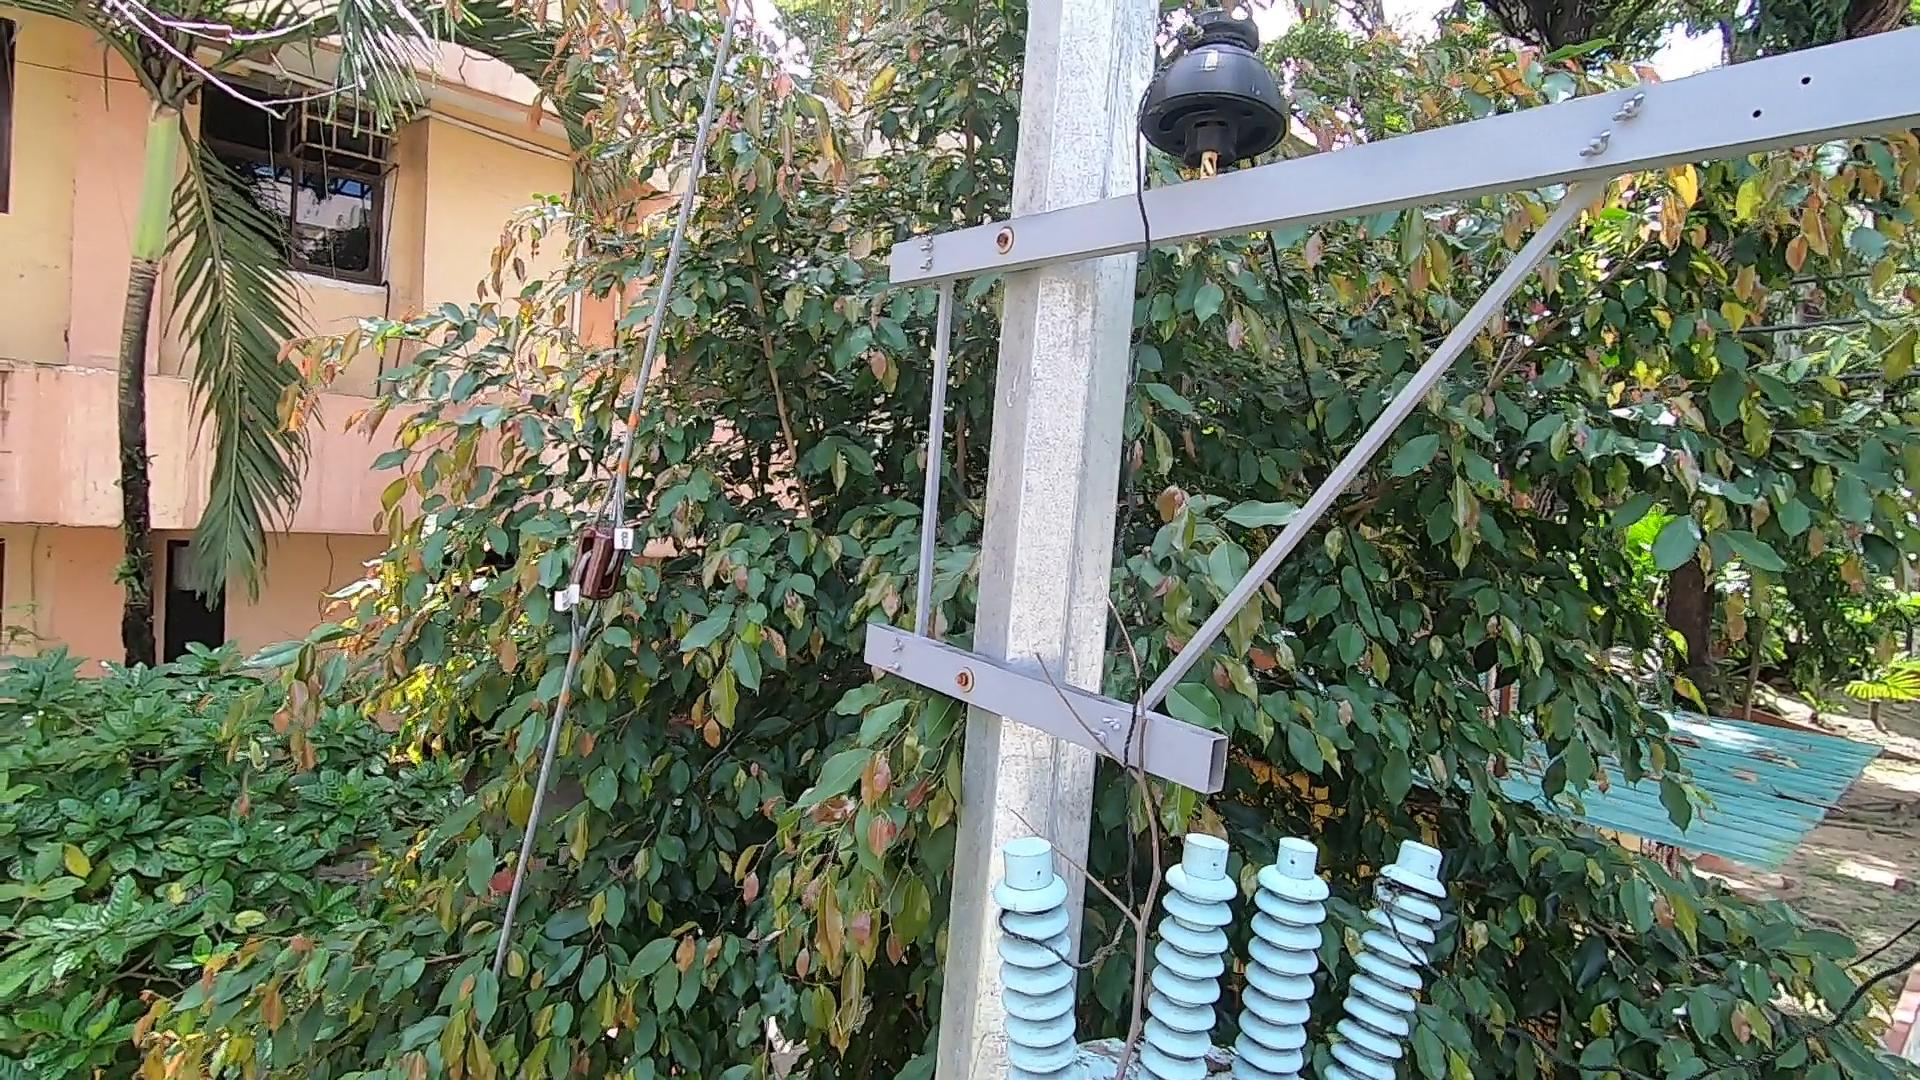tree branch: (978, 564, 1183, 1080)
